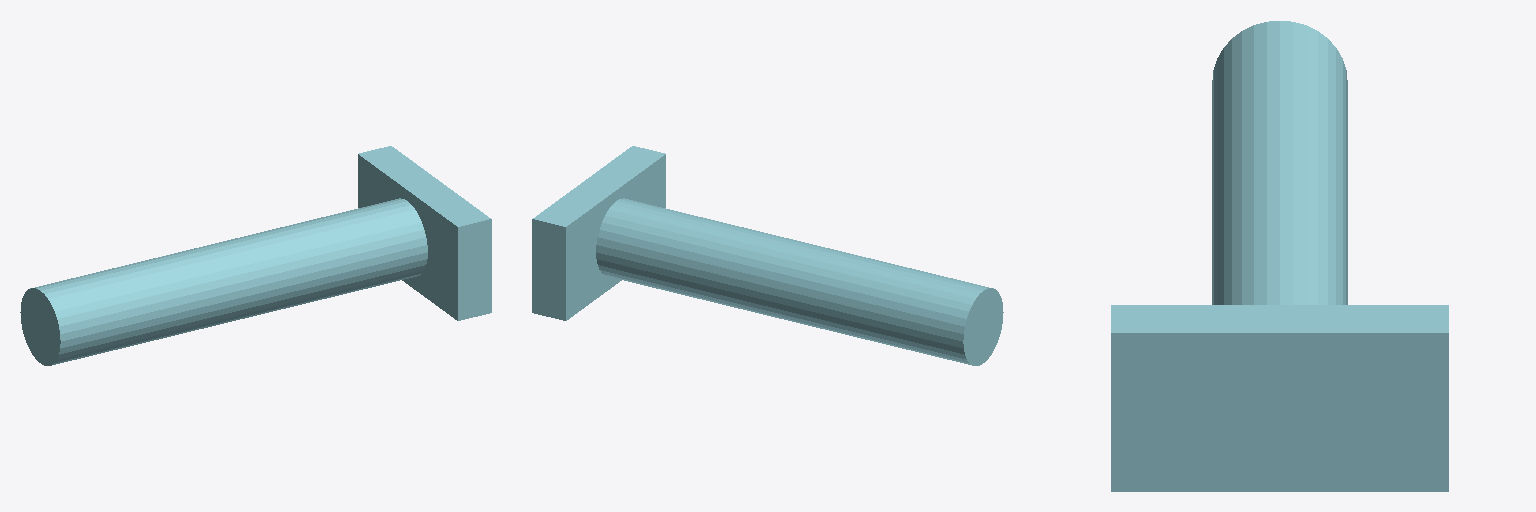
URDF robot description (cylinder_hammer_v1009):
<?xml version="1.0"?>
<robot name="cylinder_hammer_v1009">

  <link name="cylinder_hammer_v1009">
    <!-- Handle -->
    <visual>
      <origin xyz="0 0 0" rpy="0 1.5707963267948966 0"/>
      <geometry>
        <cylinder length="0.22810086037073066" radius="0.021583671904575698"/>
      </geometry>
      <material name="material">
        <color rgba="0.639 0.847 0.882 1.0"/>
      </material>
    </visual>
    <collision>
      <origin xyz="0 0 0" rpy="0 1.5707963267948966 0"/>
      <geometry>
        <cylinder length="0.22810086037073066" radius="0.021583671904575698"/>
      </geometry>
    </collision>

    <!-- Head -->
    <visual>
      <origin xyz="0.12448267178297194 0 0" rpy="0 0 0"/>
      <geometry>
        <box size="0.020864483195213217 0.10784043469360505 0.05584643087359066"/>
      </geometry>
      <material name="material">
        <color rgba="0.639 0.847 0.882 1.0"/>
      </material>
    </visual>
    <collision>
      <origin xyz="0.12448267178297194 0 0" rpy="0 0 0"/>
      <geometry>
        <box size="0.020864483195213217 0.10784043469360505 0.05584643087359066"/>
      </geometry>
    </collision>

    <inertial>
      <density value="400.0"/>
    </inertial>
  </link>

</robot>

--- Facts derived from the render (not from the file) ---
3 views of the same robot in one strip: view 1: azimuth 30°, elevation 25°; view 2: azimuth 150°, elevation 25°; view 3: azimuth 270°, elevation 25° (orthographic).
Model cylinder_hammer_v1009 with 1 links and 0 joints (none), rooted at cylinder_hammer_v1009, posed every joint at zero.
Visible links, largest first — view 1: cylinder_hammer_v1009; view 2: cylinder_hammer_v1009; view 3: cylinder_hammer_v1009.
Boxes of the visible links, x1,y1,x2,y2 form: cylinder_hammer_v1009: (20, 146, 491, 365); cylinder_hammer_v1009: (532, 146, 1003, 365); cylinder_hammer_v1009: (1111, 21, 1448, 491).
Size in the robot's own frame: 0.249 by 0.1078 by 0.0558 metres.
Geometry: primitives only (box / cylinder / sphere), no mesh files.
